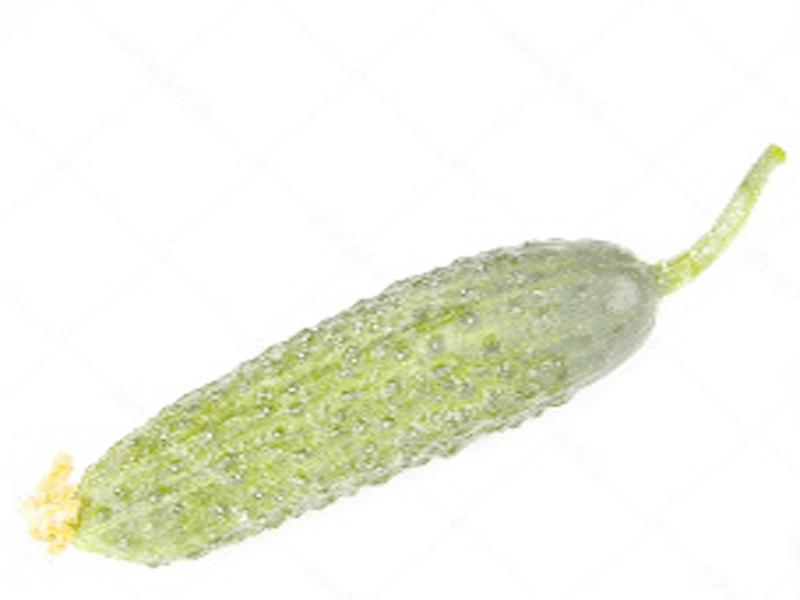Cucumber: (17, 145, 785, 568)
